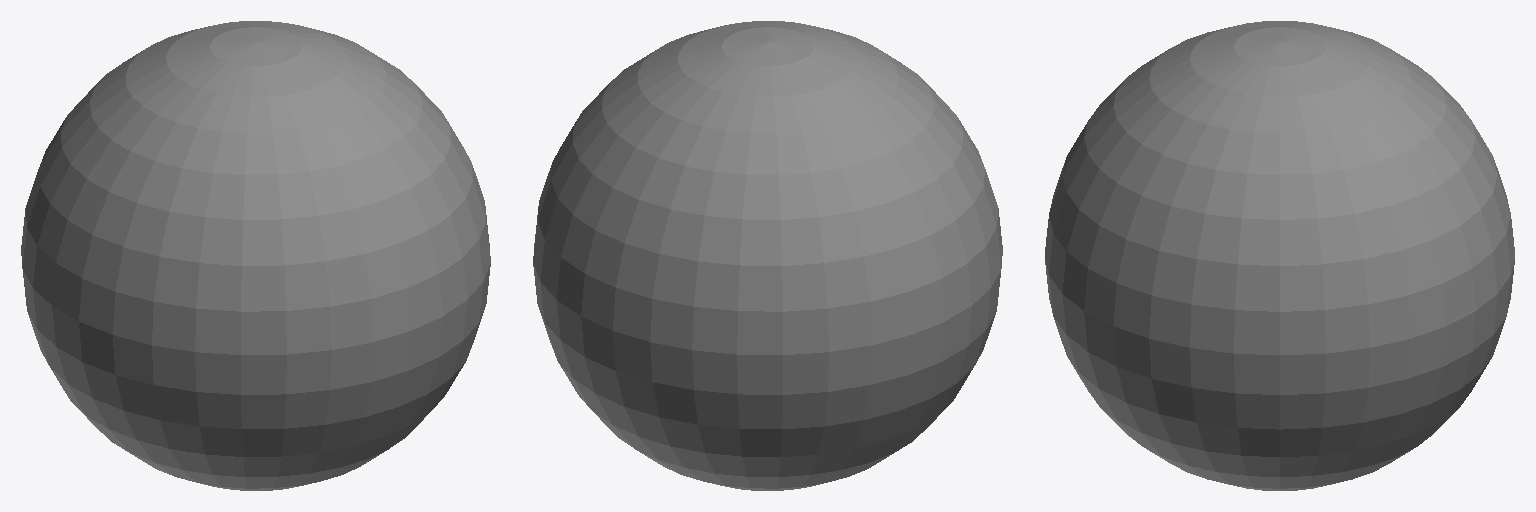
Rendered from esfera.obj.
The picture shows the model from 3 angles: view 1: azimuth 30°, elevation 25°; view 2: azimuth 150°, elevation 25°; view 3: azimuth 270°, elevation 25°; orthographic projection.
Visible parts, largest first — view 1: Esfera; view 2: Esfera; view 3: Esfera.
Part boxes in pixels (left/top/right/bottom): Esfera: left=21, top=21, right=490, bottom=490; Esfera: left=533, top=21, right=1002, bottom=490; Esfera: left=1045, top=21, right=1514, bottom=490.
Size of the model in its own units: 57.64 by 57.64 by 57.64.